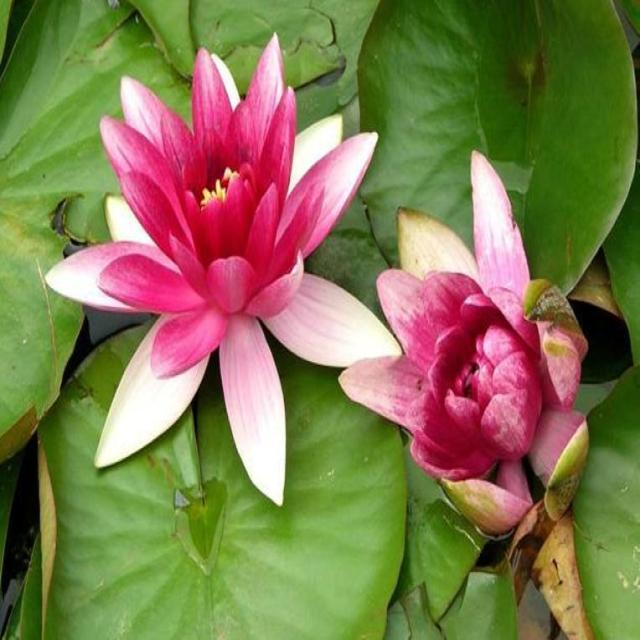rose: (35, 7, 640, 635)
